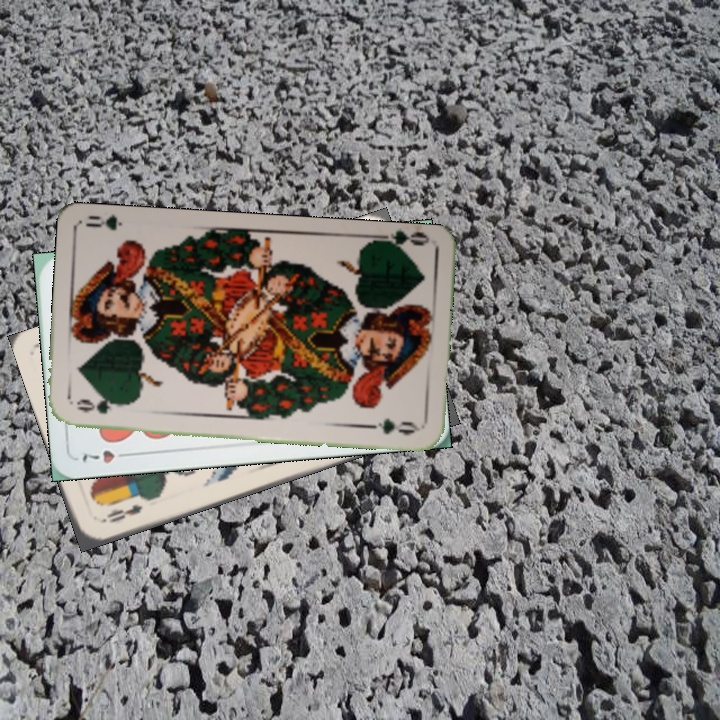EO: (96, 500, 145, 526)
GO: (371, 229, 431, 257), (73, 396, 130, 417)
H7: (77, 446, 134, 466)
